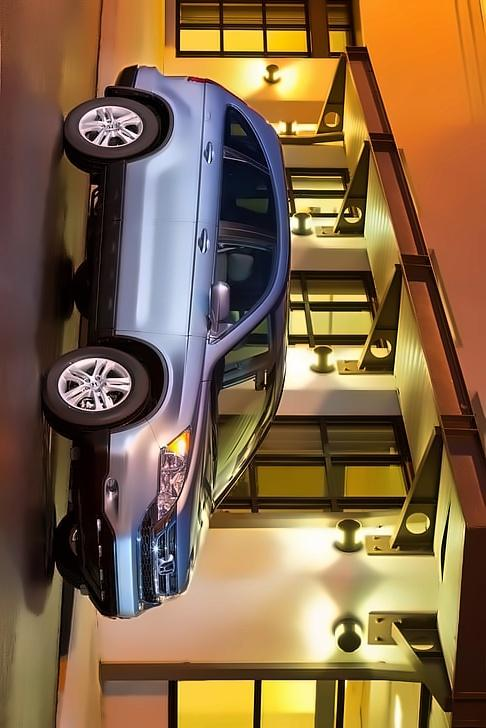Car hood: (178, 376, 223, 588)
Driver-s door - -F-R-: (80, 213, 295, 353)
Fender - -F-R-: (68, 322, 228, 445)
Fender - -R-R-: (103, 71, 265, 173)
Front bumper: (77, 419, 163, 622)
Headlight - -R-: (151, 428, 193, 539)
Passenger-s door - -R-R-: (83, 129, 297, 248)
Side bumper - -R-: (77, 155, 147, 346)
Side mirror - -R-: (200, 277, 229, 343)
